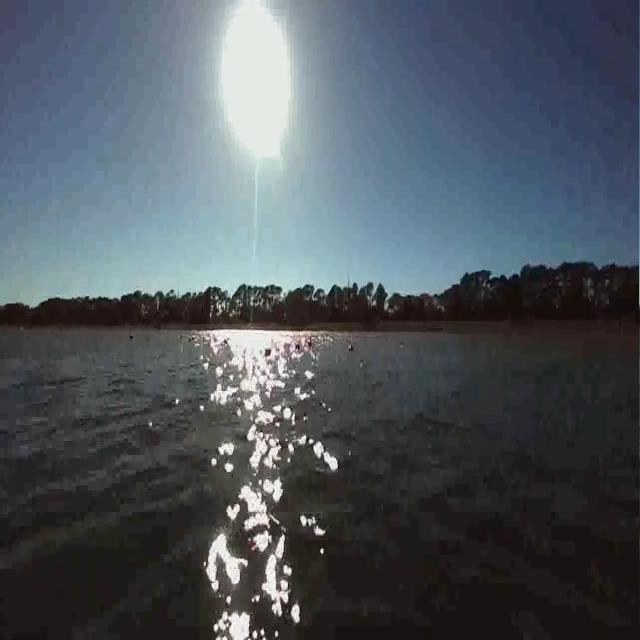green-column-buoy: (224, 339, 233, 359)
